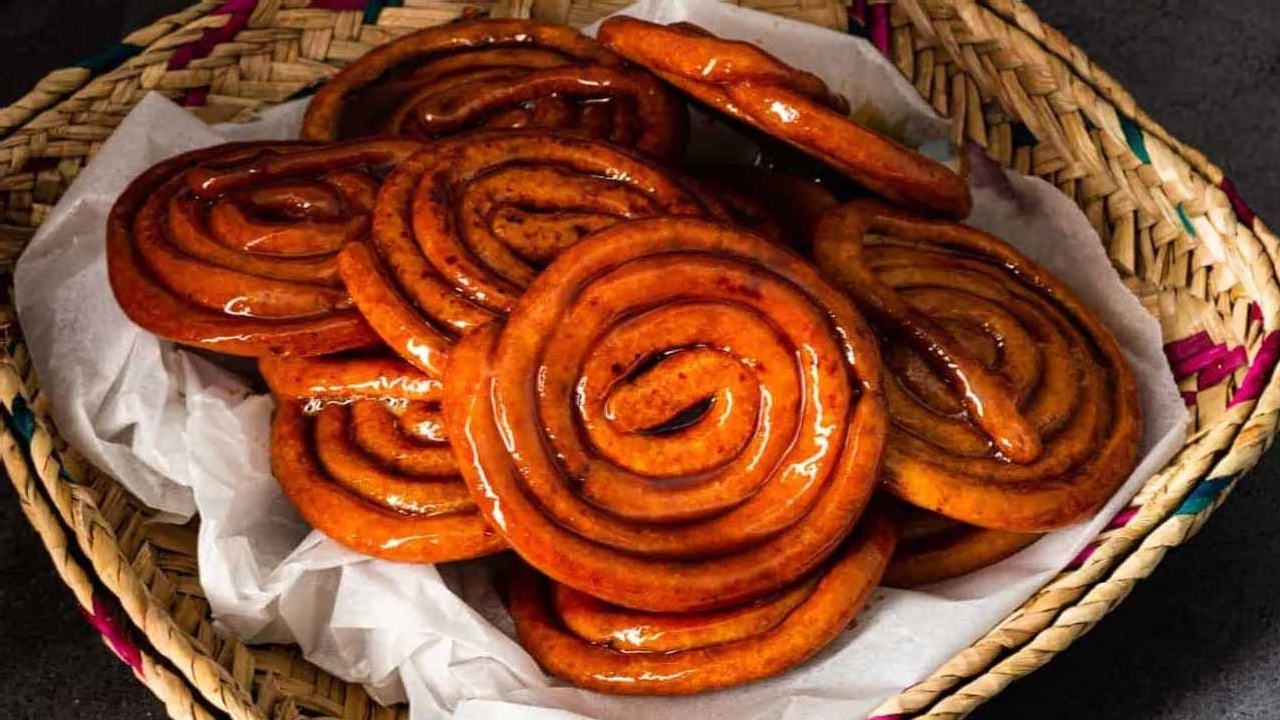pani_walalu: (451, 213, 890, 617), (803, 198, 1143, 536), (100, 134, 421, 354), (371, 127, 710, 334)
